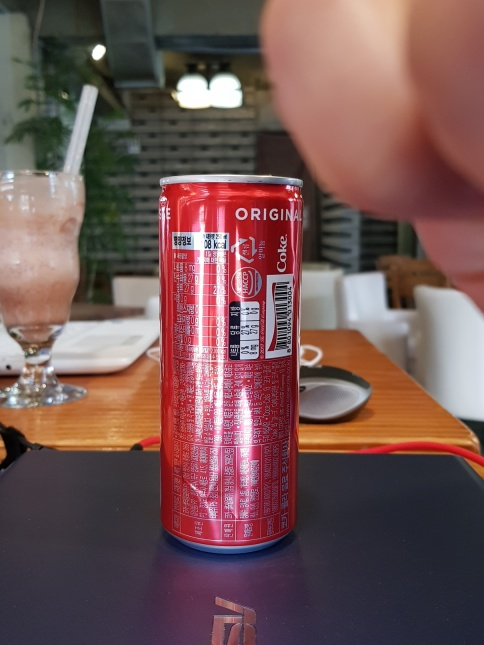Can: (156, 171, 302, 561)
